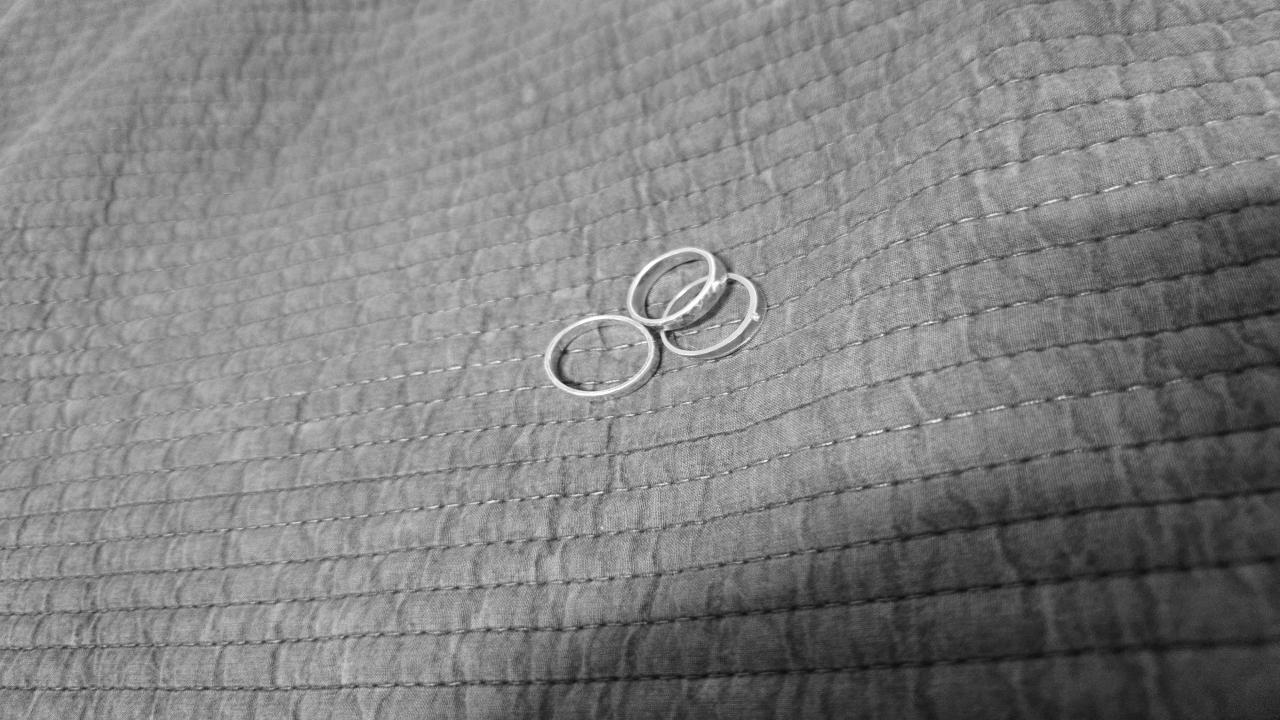ring: (544, 315, 662, 400), (664, 273, 766, 361), (626, 247, 726, 333)
